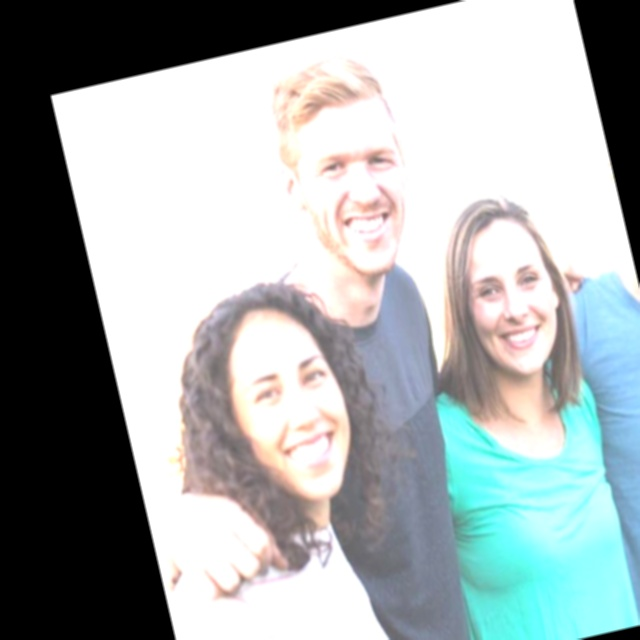Sin_Casco_Mascarrilla: (255, 44, 436, 290), (434, 184, 578, 386)
